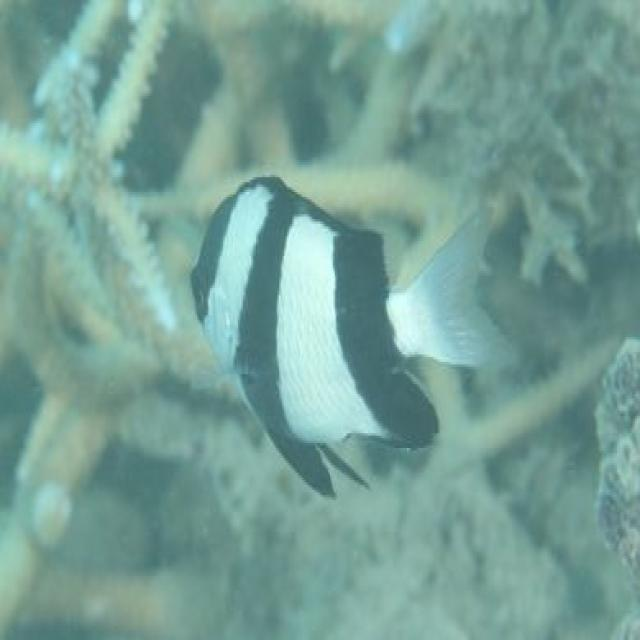ThreeStripedDamselfish: (189, 177, 522, 500)
